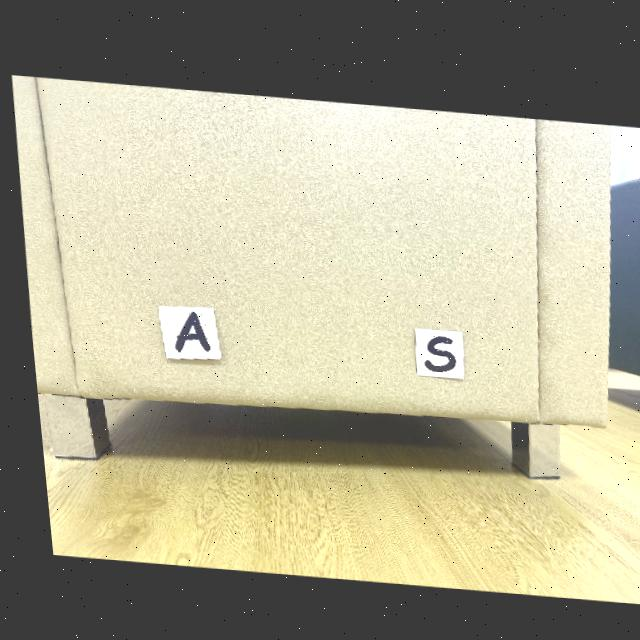A: (168, 309, 204, 349)
S: (418, 330, 449, 365)
